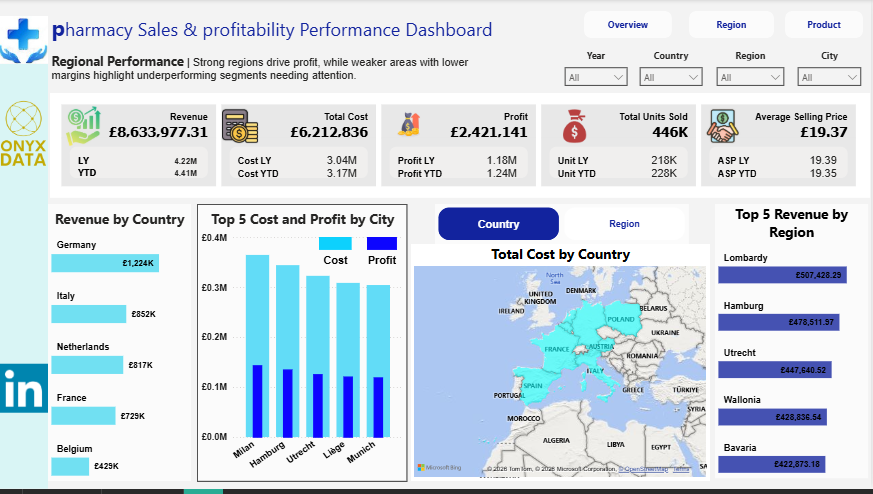

The dashboard page shown, as its layout file describes it:
{"tool":"powerbi","page":{"name":"Region","canvas":[1280,720],"ordinal":1},"visuals":[{"type":"shape","box":[0,95.5,72,624.5],"z":0},{"type":"columnChart","title":"Top 5 Cost and Profit by City","fields":{"Y":["DAX Calculation.Total Cost"],"Category":["Pharmacy.City"]},"box":[290.9,301.2,308.6,408.5],"z":1000},{"type":"image","box":[0,0,72,120.5],"z":2000},{"type":"textbox","box":[72,14.7,665.6,58.8],"z":3000},{"type":"shape","box":[470.2,349.7,48.5,19.1],"z":4000},{"type":"textbox","box":[72,73.5,665.6,64.7],"z":5000},{"type":"shape","box":[540.7,374.7,44.1,19.1],"z":6000},{"type":"shape","box":[470.2,373.2,48.5,22],"z":7000},{"type":"shape","box":[540.7,349.7,44.1,19.1],"z":8000},{"type":"clusteredBarChart","title":"Top 5 Revenue by Region","fields":{"Y":["DAX Calculation.Labels Placeholder","DAX Calculation.Revenue"],"Category":["Pharmacy.Region"]},"box":[1052.1,301.2,224.8,402.6],"z":9000},{"type":"clusteredBarChart","title":" Revenue by Country","fields":{"Y":["DAX Calculation.Labels Placeholder","DAX Calculation.Total Revenue"],"Category":["Pharmacy.Country"]},"box":[72,301.2,210.1,407],"z":10000},{"type":"slicer","title":"Country","fields":{"Values":["Pharmacy.Country"]},"box":[931.6,73.5,111.7,55.8],"z":11000},{"type":"slicer","title":"City","fields":{"Values":["Pharmacy.City"]},"box":[1163.8,73.5,113.1,64.7],"z":12000},{"type":"slicer","title":"Region ","fields":{"Values":["Pharmacy.Region"]},"box":[1044.7,73.5,119,55.8],"z":13000},{"type":"slicer","title":"Year","fields":{"Values":["Date.Year"]},"box":[821.4,73.5,111.7,55.8],"z":14000},{"type":"actionButton","box":[1154.9,17.6,114.6,39.7],"z":19000},{"type":"actionButton","box":[1013.9,17.6,124.9,39.7],"z":20000},{"type":"actionButton","box":[859.6,17.6,129.3,39.7],"z":21000},{"type":"image","box":[0,146.9,72,101.4],"z":22000},{"type":"image","box":[0,531.9,72,80.8],"z":23000},{"type":"cardVisual","fields":{"Data":["DAX Calculation.Revenue","DAX Calculation.Total Cost","DAX Calculation.Profit","DAX Calculation.Total Units Sold","DAX Calculation.Average Selling Price"]},"box":[74.9,138.1,1204.9,154.3],"z":24000},{"type":"image","box":[88.2,157.2,72,58.8],"z":25000},{"type":"image","box":[327.7,157.2,52.9,58.8],"z":25500},{"type":"image","box":[562.8,157.2,77.9,58.8],"z":26000},{"type":"image","box":[802.3,157.2,86.7,58.8],"z":26500},{"type":"image","box":[1033,157.2,60.2,58.8],"z":27000},{"type":"filledMap","fields":{"Category":["Pharmacy.Country"]},"box":[605.4,360,439.3,348.2],"z":27001},{"type":"advancedSlicerVisual","fields":{"Values":["Location Switch.Location Switch"]},"box":[640.7,301.2,373.2,58.8],"z":27002}]}

Visuals, with their boxes in screenshot pixels (x1, y1, x2, y2), scaled from the page's 1280x720 canvas onto the 873x494 screenshot:
shape: 0, 66, 49, 493
"Top 5 Cost and Profit by City" columnChart: 198, 207, 409, 487
image: 0, 0, 49, 83
textbox: 49, 10, 503, 50
shape: 321, 240, 354, 253
textbox: 49, 50, 503, 95
shape: 369, 257, 399, 270
shape: 321, 256, 354, 271
shape: 369, 240, 399, 253
"Top 5 Revenue by Region" clusteredBarChart: 718, 207, 871, 483
" Revenue by Country" clusteredBarChart: 49, 207, 192, 486
"Country" slicer: 635, 50, 712, 89
"City" slicer: 794, 50, 871, 95
"Region " slicer: 713, 50, 794, 89
"Year" slicer: 560, 50, 636, 89
actionButton: 788, 12, 866, 39
actionButton: 692, 12, 777, 39
actionButton: 586, 12, 674, 39
image: 0, 101, 49, 170
image: 0, 365, 49, 420
cardVisual - DAX Calculation.Revenue x DAX Calculation.Total Cost: 51, 95, 872, 201
image: 60, 108, 109, 148
image: 224, 108, 260, 148
image: 384, 108, 437, 148
image: 547, 108, 606, 148
image: 705, 108, 746, 148
filledMap - Pharmacy.Country: 413, 247, 713, 486
advancedSlicerVisual - Location Switch.Location Switch: 437, 207, 692, 247
